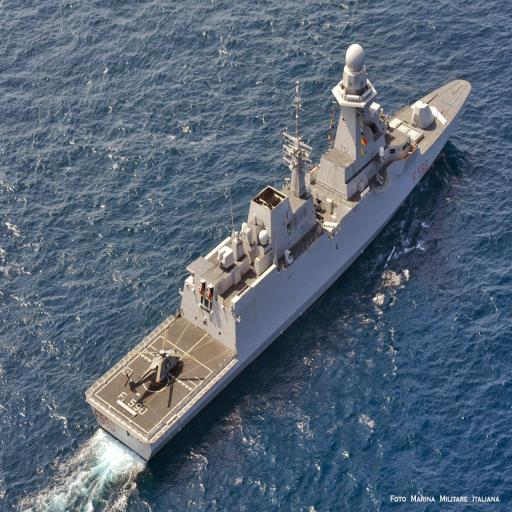Fragata: (1, 35, 321, 470)
